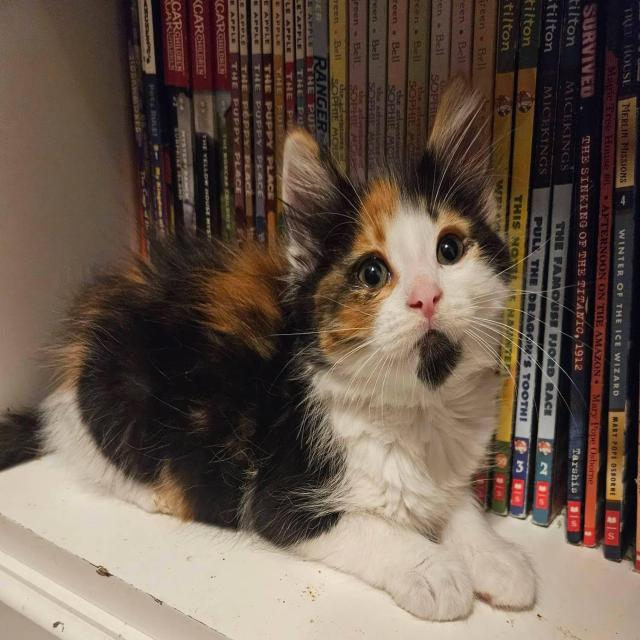calico_cat: (273, 71, 526, 419)
